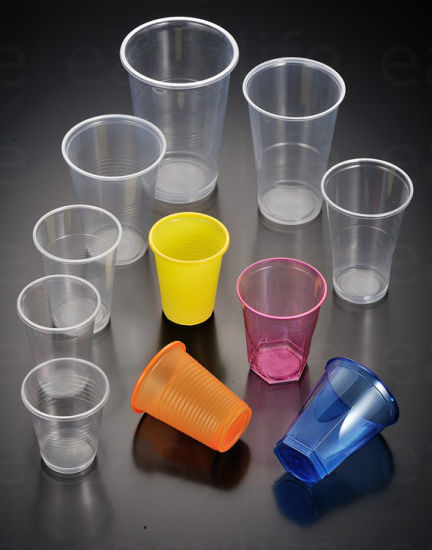plastic_glass: (320, 156, 414, 309), (129, 339, 253, 454), (147, 210, 231, 327)
